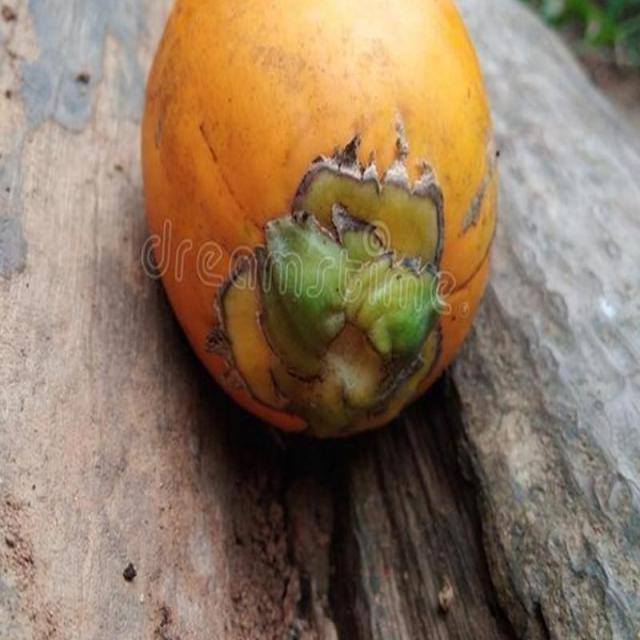good: (140, 0, 500, 443)
